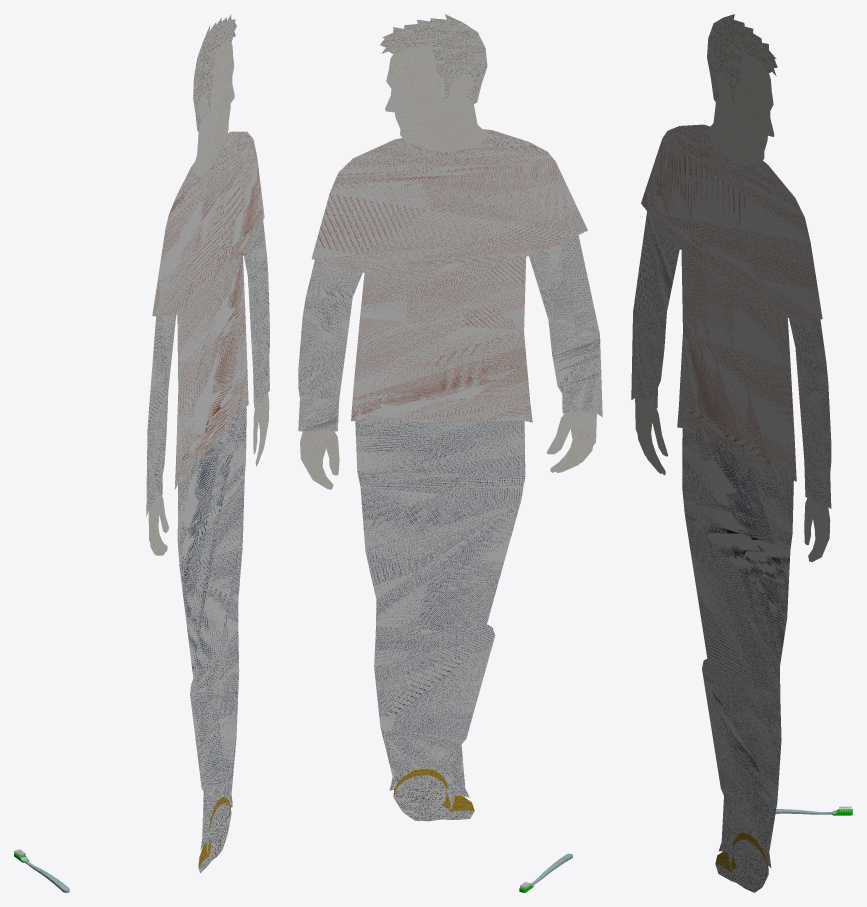
File: greenTB.fbx
3 renders of one model, left to right at view 1: azimuth 30°, elevation 25°; view 2: azimuth 150°, elevation 25°; view 3: azimuth 270°, elevation 25°, orthographic. The views are drawn at different scales.
Visible parts, largest first — view 1: Bryce1; view 2: Bryce1; view 3: Bryce1.
Boxes of the visible parts, x1=… form: Bryce1: x1=146, y1=14, x2=269, y2=873; Bryce1: x1=298, y1=14, x2=602, y2=821; Bryce1: x1=631, y1=14, x2=831, y2=892.
Bounding box in the file's own units: 0.5555 × 1.81 × 0.4175.
